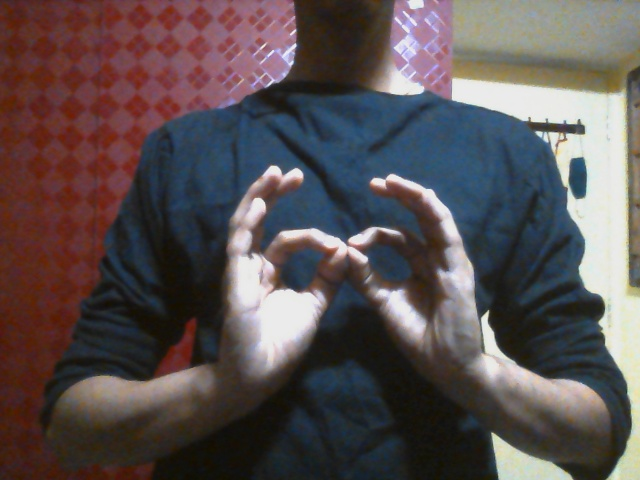B: (216, 162, 485, 414)
